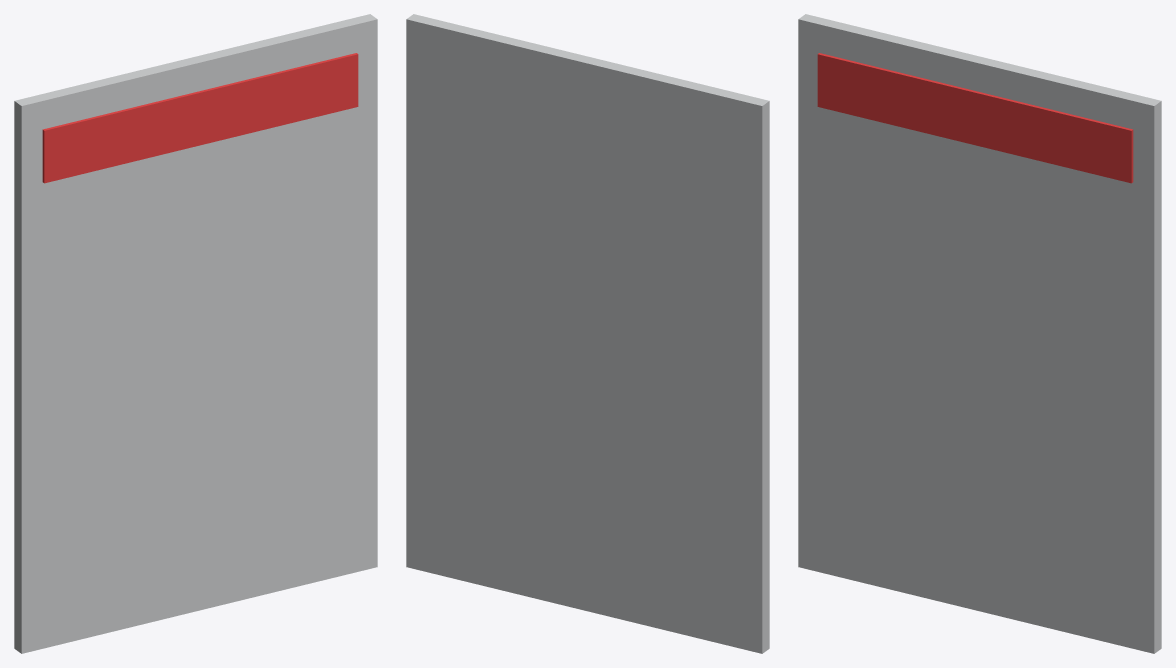
Rendered from document.glb.
The picture shows the model from 3 angles, left to right: view 1: azimuth 30°, elevation 25°; view 2: azimuth 150°, elevation 25°; view 3: azimuth 330°, elevation 25°; orthographic projection.
Bounding box in the file's own units: 0.85 × 1.25 × 0.0375.
